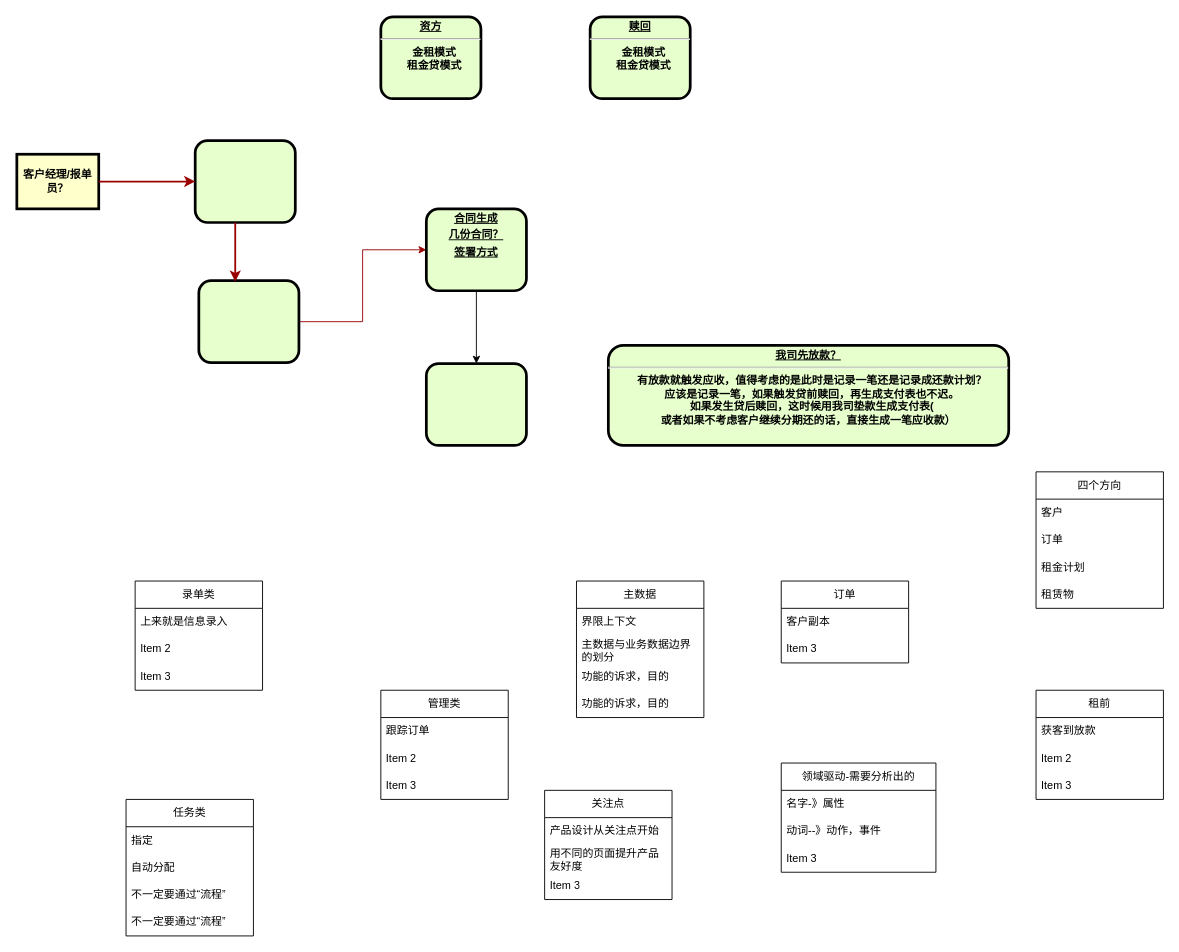
Some shapes in this 1179 by 952 pixel diagram are drawn without their labels. Each missing label, with the centre of its shape:
"前置征信 System Study Preparation" goes at point 244,181.
"请款 我司放款 资方直接放款" goes at point 476,404.
"进件提报 System Analysis" goes at point 248,321.
